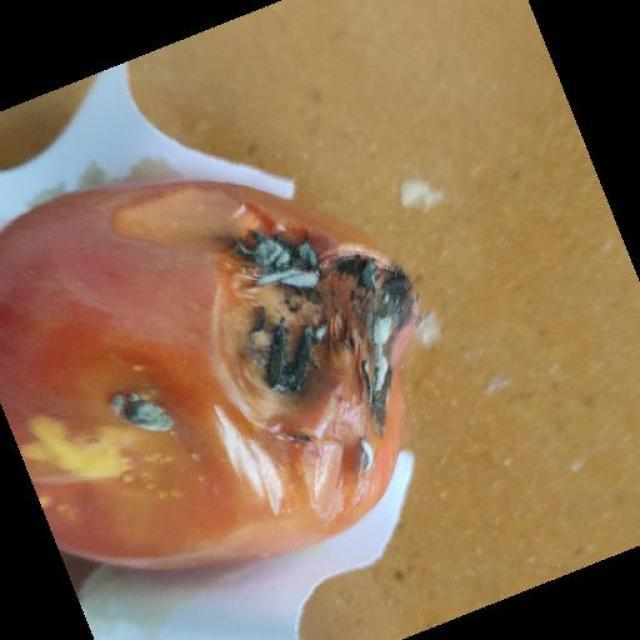Rotten Tomato: (8, 125, 442, 595)
